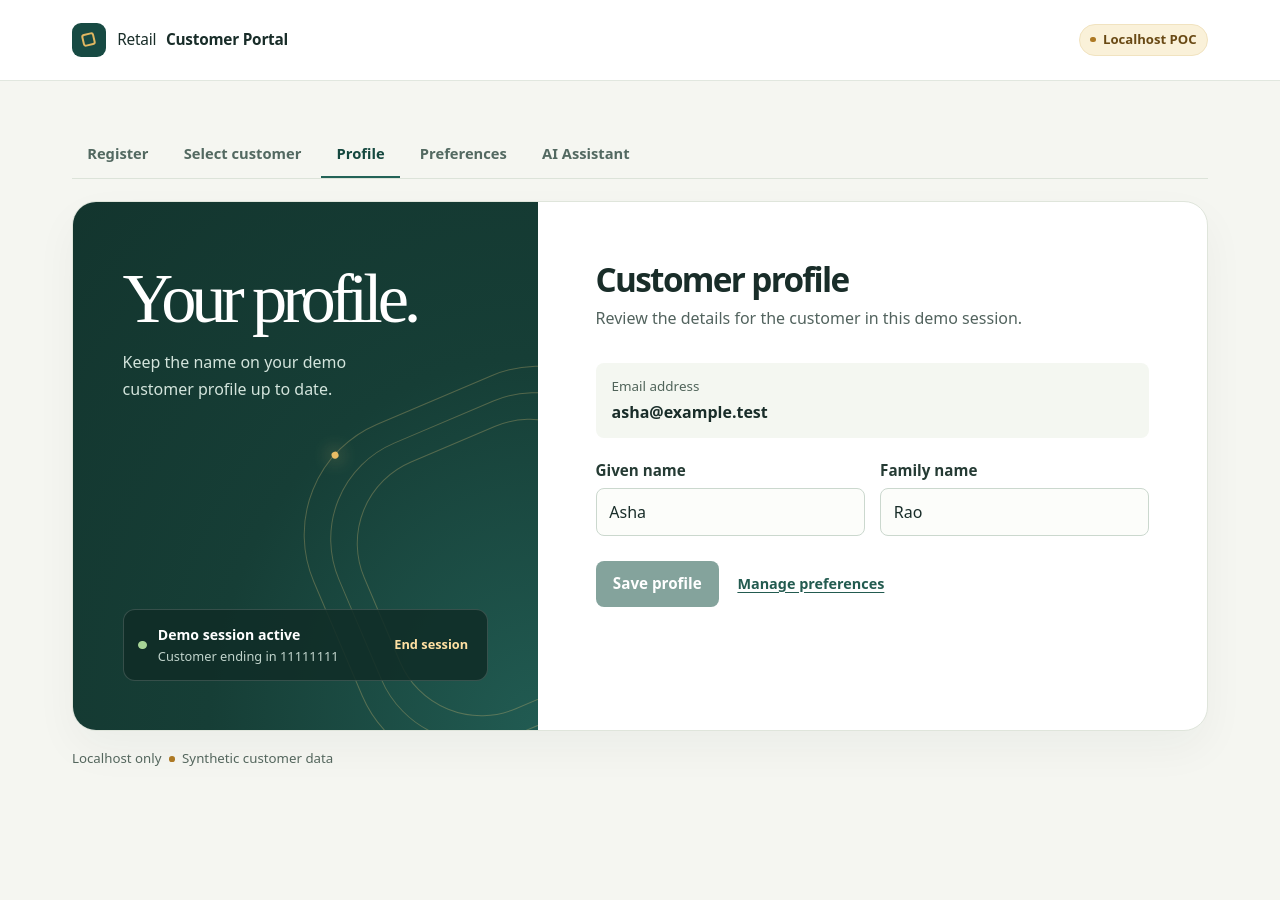
it: retrieves and edits the server-selected profile
Step 1. Replace the text in the field labelled "Given name" with "Meera" → (730, 512), box [596,488,865,536]
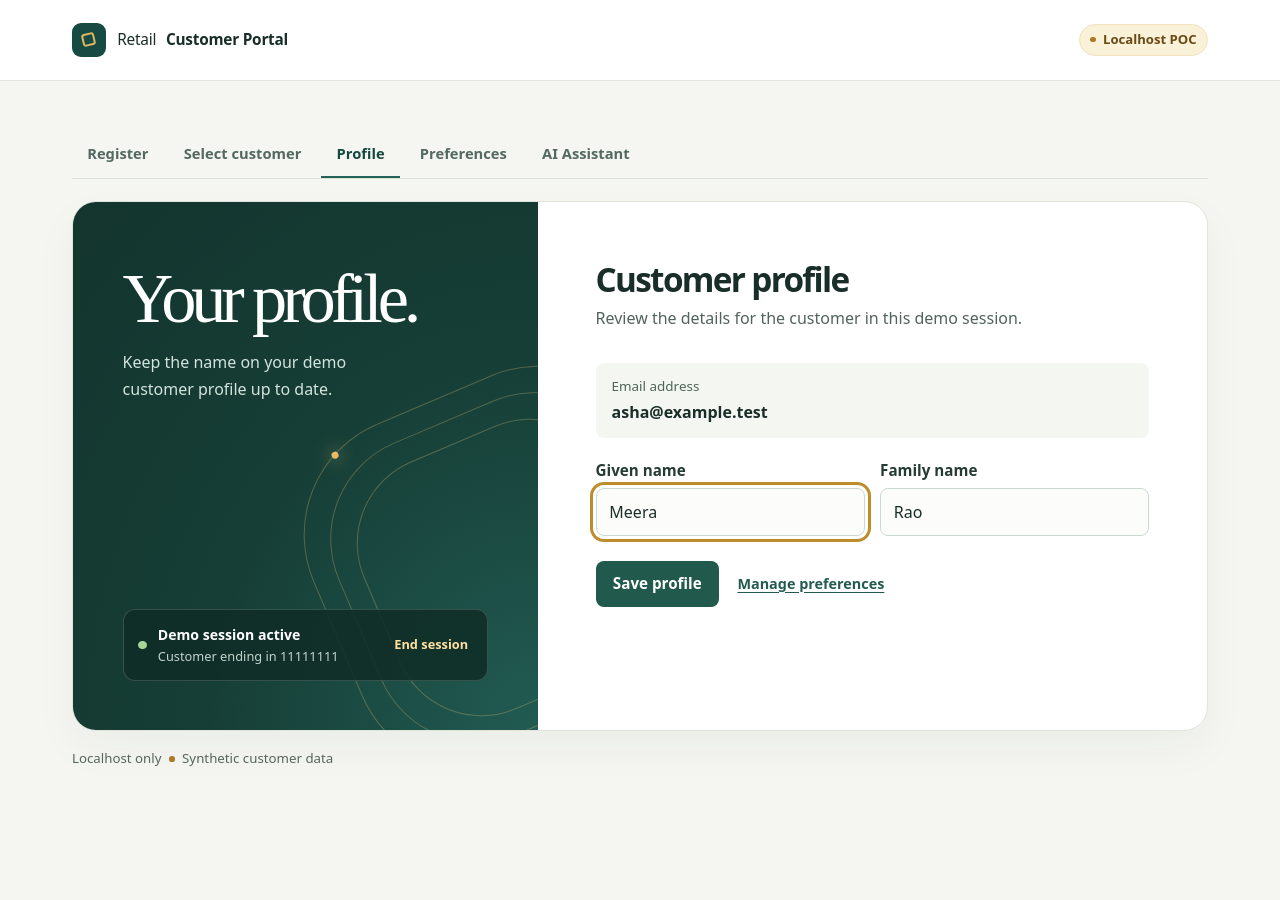
Step 2. Click the button "Save profile" → (657, 584), box [596,561,719,607]
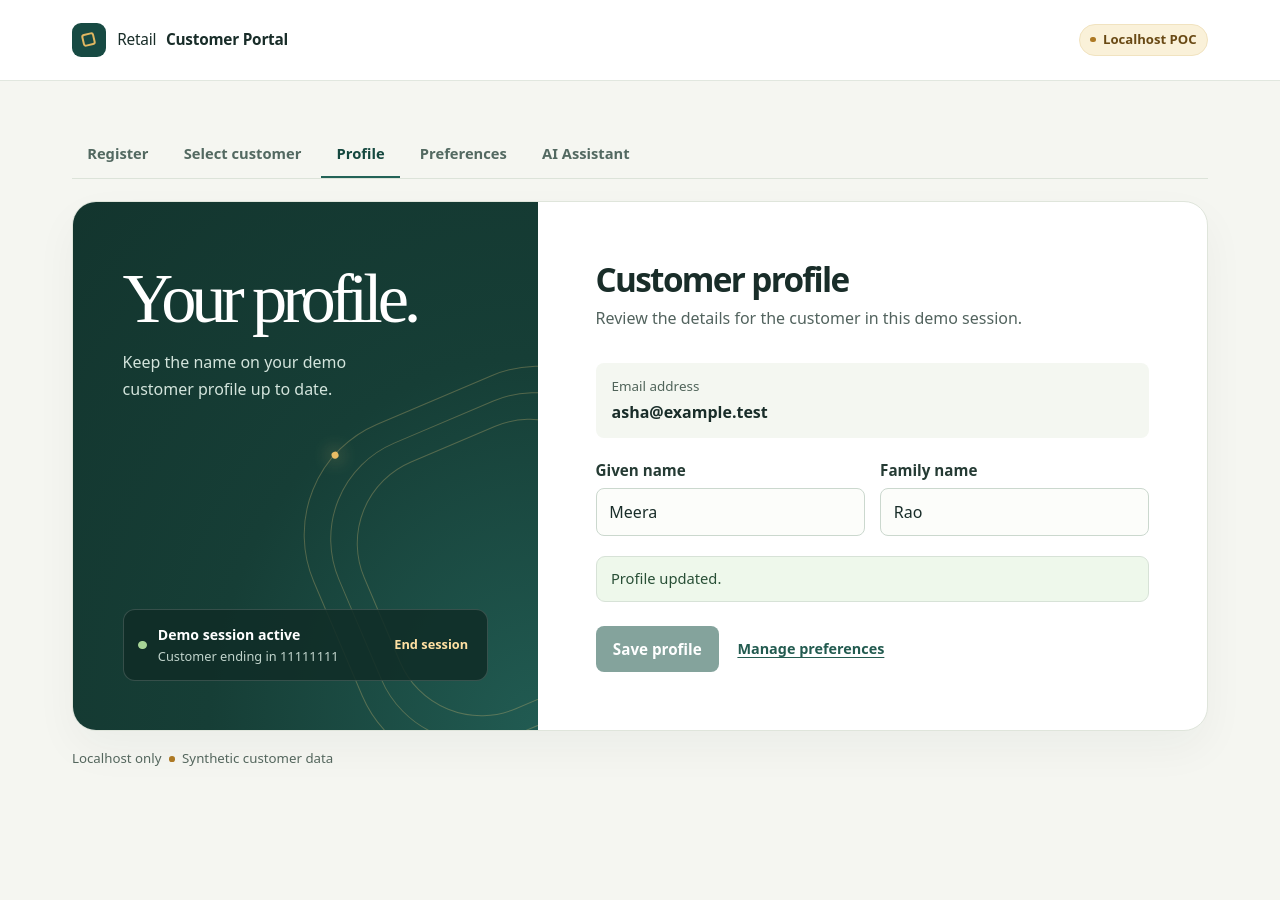
Result: the text "Profile updated." is shown at [596,556,1149,602]
